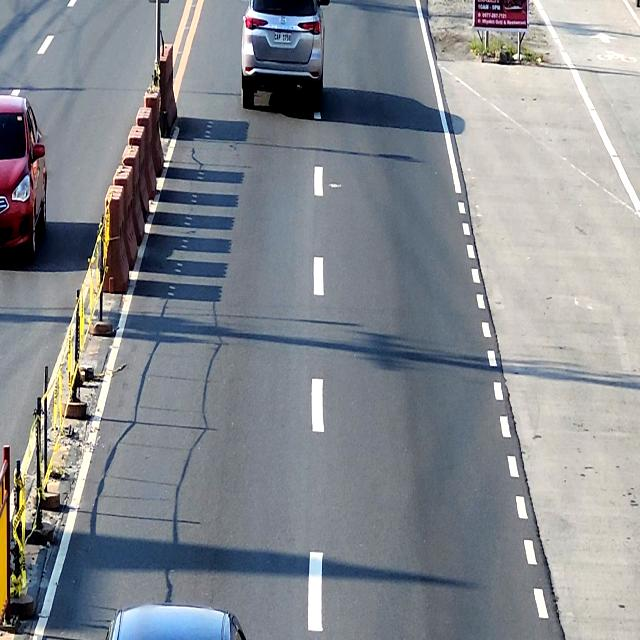Car: (242, 0, 331, 110), (0, 93, 46, 262)
License-Plate: (274, 32, 292, 44)
